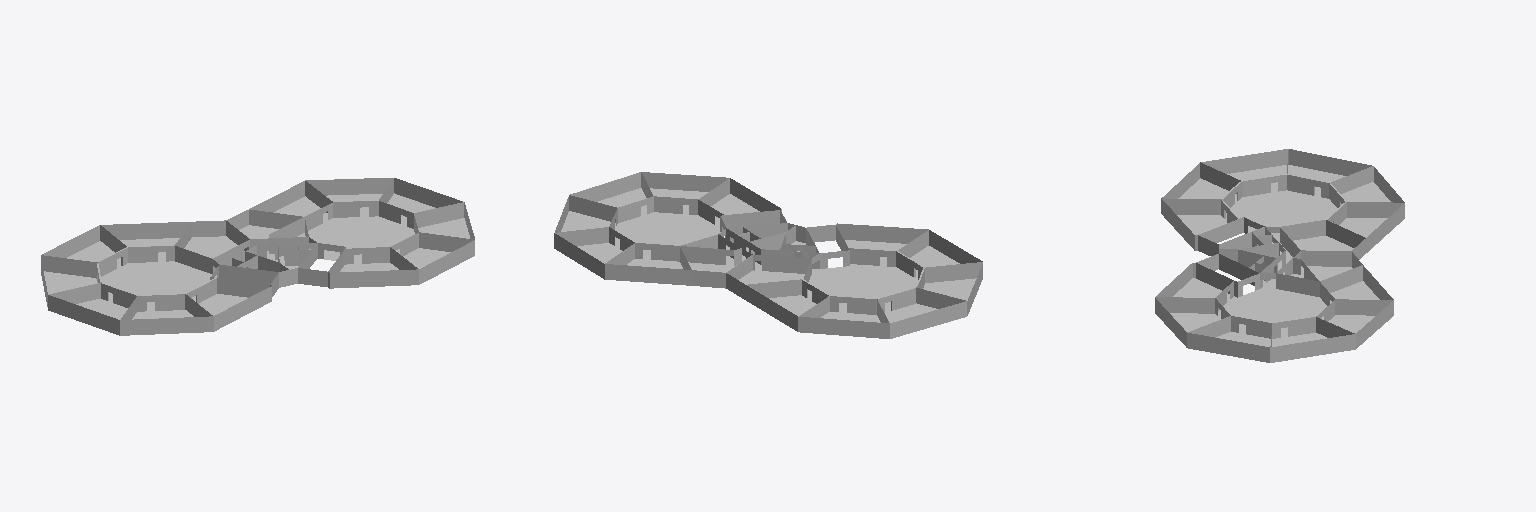
File: lmg.obj
3 views of the same model, side by side, from view 1: azimuth 30°, elevation 25°; view 2: azimuth 150°, elevation 25°; view 3: azimuth 270°, elevation 25° (orthographic).
Visible parts, largest first — view 1: Circle; view 2: Circle; view 3: Circle.
Boxes of the visible parts, box(x1,y1,x2,y2) form: Circle: box(41, 178, 474, 335); Circle: box(554, 172, 982, 338); Circle: box(1155, 149, 1404, 362).
Size of the model in its own units: 13.47 by 0.5 by 7.17.